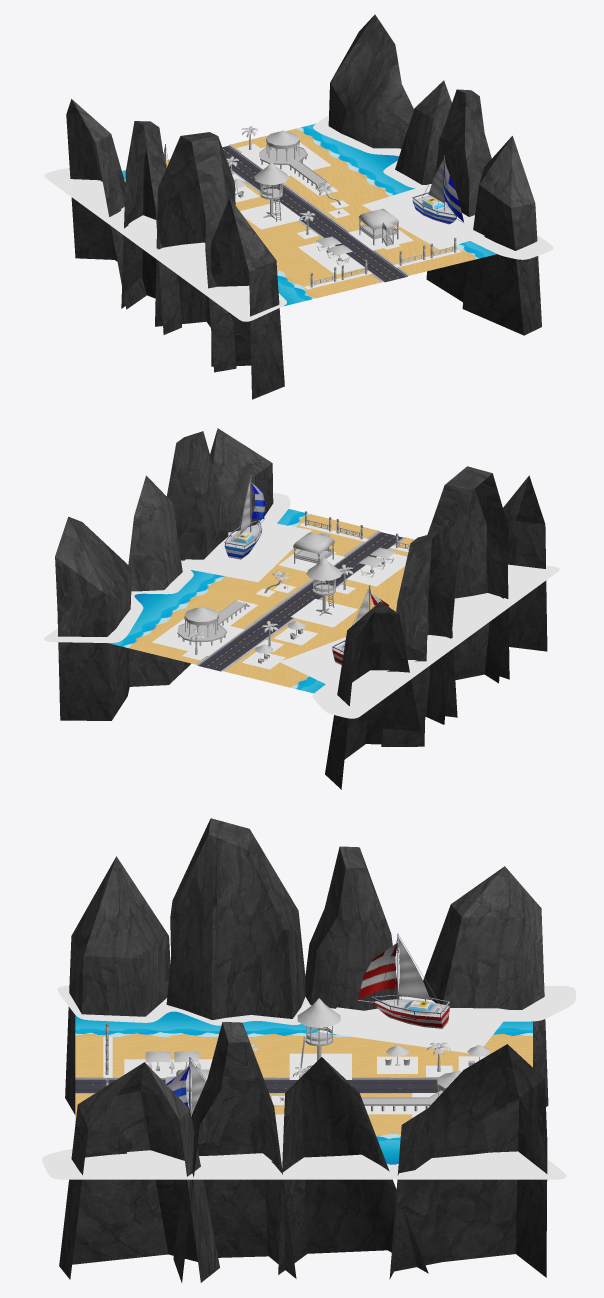
The model's file is Beach_03.fbx.
3 renders of one model, top to bottom at view 1: azimuth 30°, elevation 25°; view 2: azimuth 150°, elevation 25°; view 3: azimuth 270°, elevation 25°, orthographic. The views are drawn at different scales.
Visible parts, largest first — view 1: Beach_03; view 2: Beach_03; view 3: Beach_03.
Part boxes in pixels (box(x1,y1,x2,y2)): Beach_03: box(44, 14, 553, 399); Beach_03: box(44, 428, 559, 789); Beach_03: box(42, 818, 575, 1282).
Size of the model in its own units: 22617 by 13384 by 25170.
